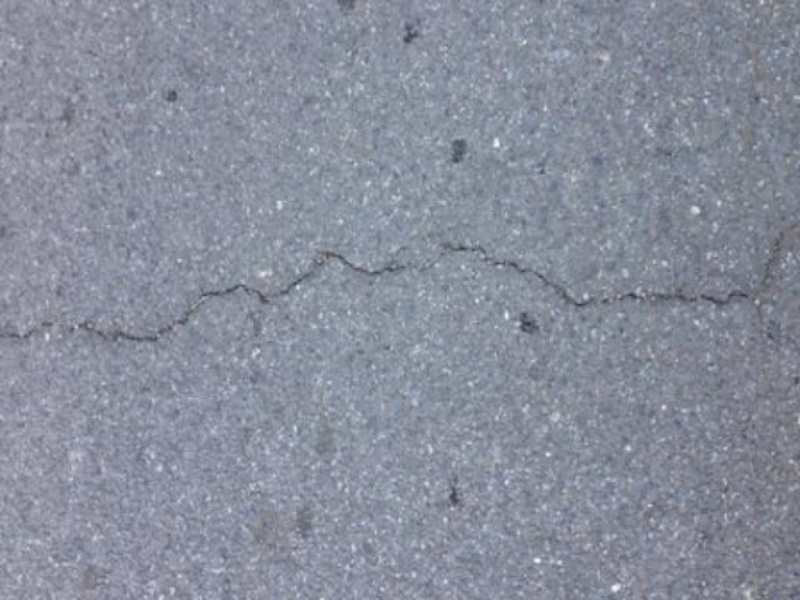crack: (6, 223, 790, 365)
